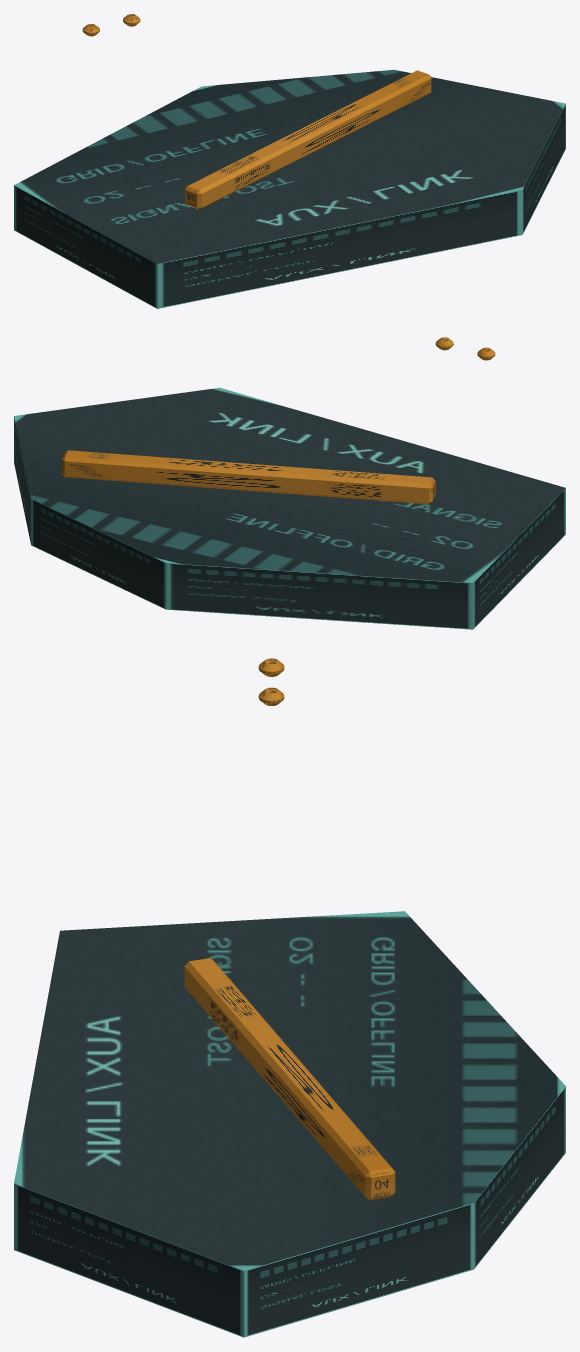
Rendered from debris_panel_LOD0.obj.
3 views of the same model, one above another, from view 1: azimuth 30°, elevation 25°; view 2: azimuth 150°, elevation 25°; view 3: azimuth 270°, elevation 25° (orthographic). The views are drawn at different scales.
Parts seen in each view (by area): view 1: L02_debris_panel_LOD0; view 2: L02_debris_panel_LOD0; view 3: L02_debris_panel_LOD0.
Part boxes in pixels (box(x1,y1,x2,y2)): L02_debris_panel_LOD0: box(14, 14, 565, 308); L02_debris_panel_LOD0: box(14, 337, 565, 629); L02_debris_panel_LOD0: box(14, 658, 565, 1337).
Bounding box in the file's own units: 1.85 × 0.8152 × 1.2.
Materials: 1 (1 with a texture image).
